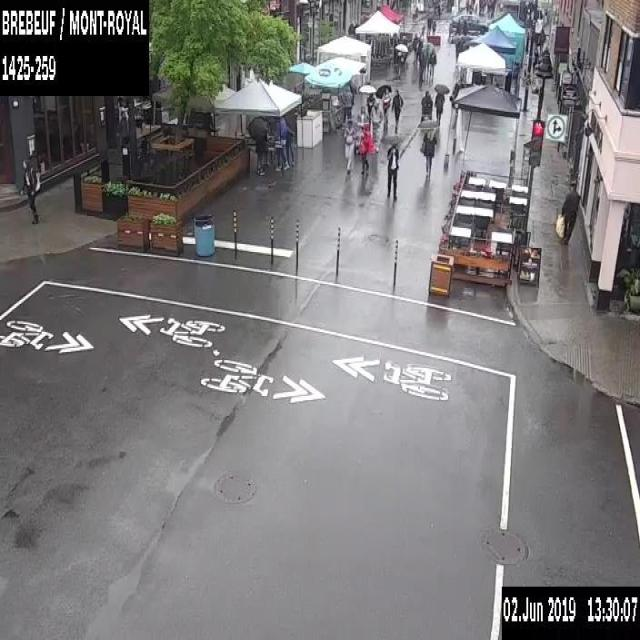pedestrian: (555, 179, 578, 244), (18, 158, 37, 222), (246, 116, 268, 171), (386, 139, 399, 201), (422, 125, 437, 177), (343, 119, 355, 172), (274, 117, 286, 168), (284, 116, 296, 166), (369, 99, 382, 145), (391, 87, 402, 133), (420, 90, 432, 129), (434, 82, 446, 121), (382, 85, 392, 131), (360, 124, 369, 175), (394, 42, 407, 74), (366, 87, 376, 128), (343, 83, 353, 124), (418, 46, 426, 80), (428, 46, 436, 78), (412, 32, 419, 60), (416, 38, 422, 62), (426, 13, 432, 35), (431, 18, 436, 34)
vehicle: (448, 12, 487, 35)
